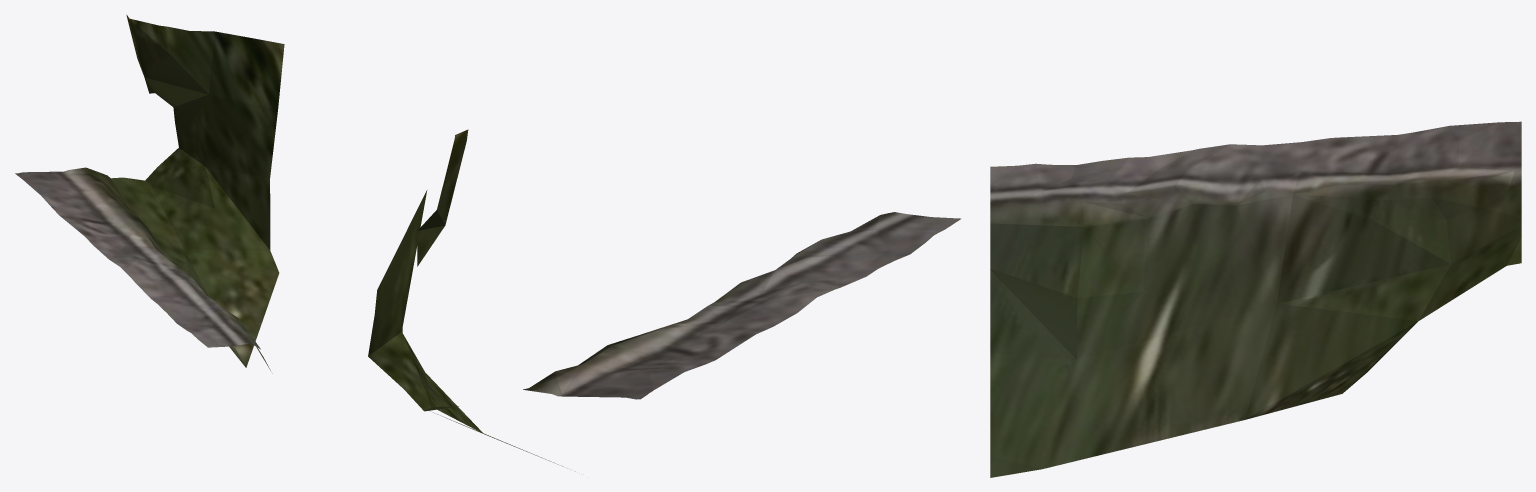
3 views of the same model, side by side, from view 1: azimuth 30°, elevation 25°; view 2: azimuth 150°, elevation 25°; view 3: azimuth 270°, elevation 25° (orthographic). The views are drawn at different scales.
Bounding box in the file's own units: 1 × 1.56 × 1.67.
Materials: 2 (2 with a texture image).
